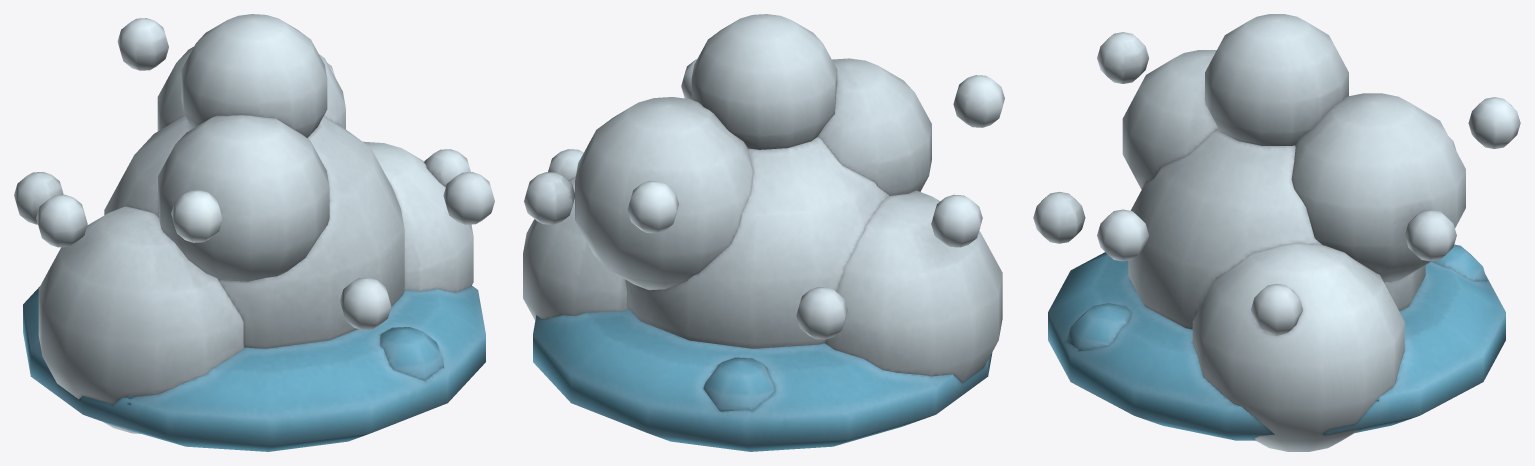
The model's file is SprayPuff.fbx.
The picture shows the model from 3 angles, left to right: view 1: azimuth 30°, elevation 25°; view 2: azimuth 150°, elevation 25°; view 3: azimuth 270°, elevation 25°; orthographic projection. The views are drawn at different scales.
Visible parts, largest first — view 1: SprayPuff; view 2: SprayPuff; view 3: SprayPuff.
Part boxes in pixels (x1,y1,x2,y2): SprayPuff: (14,14,494,451); SprayPuff: (523,14,1004,451); SprayPuff: (1033,14,1520,451).
Bounding box in the file's own units: 1.12 × 0.9325 × 1.12.
